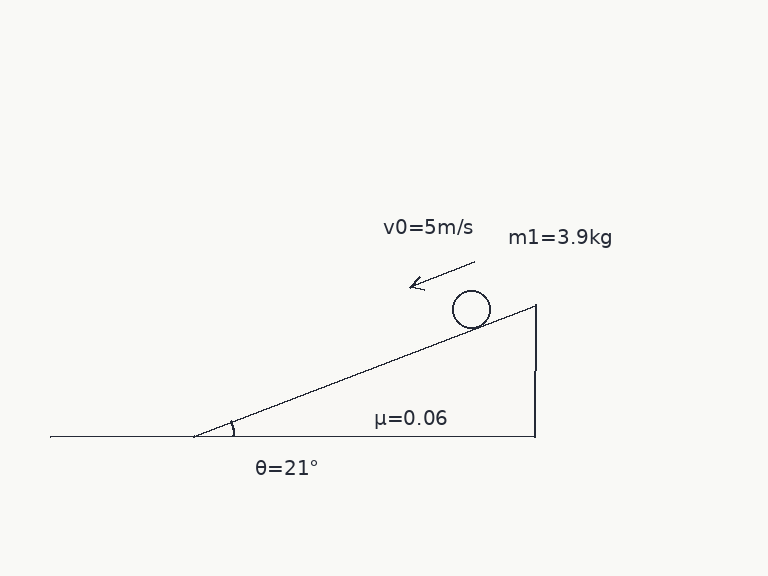ball: (450, 288, 492, 330)
ramp: (192, 303, 538, 438)
